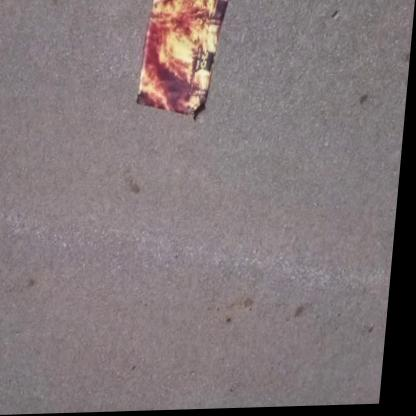fire-poster: (135, 0, 232, 125)
